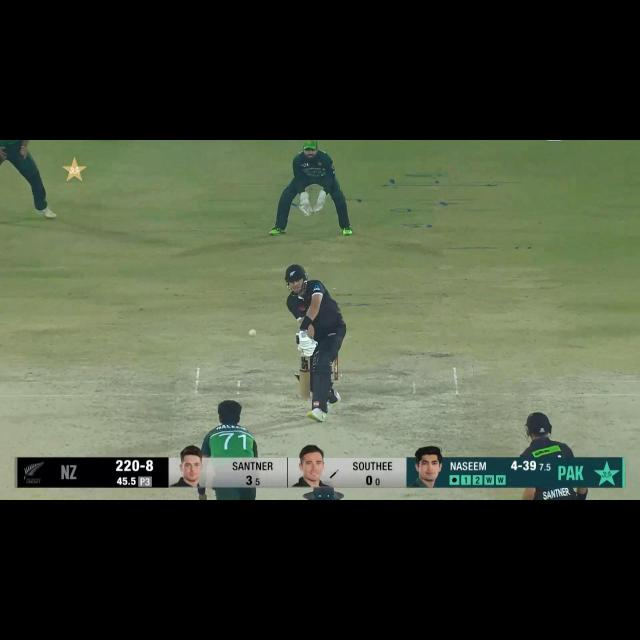bat: (298, 356, 310, 401)
toe: (296, 391, 312, 404)
